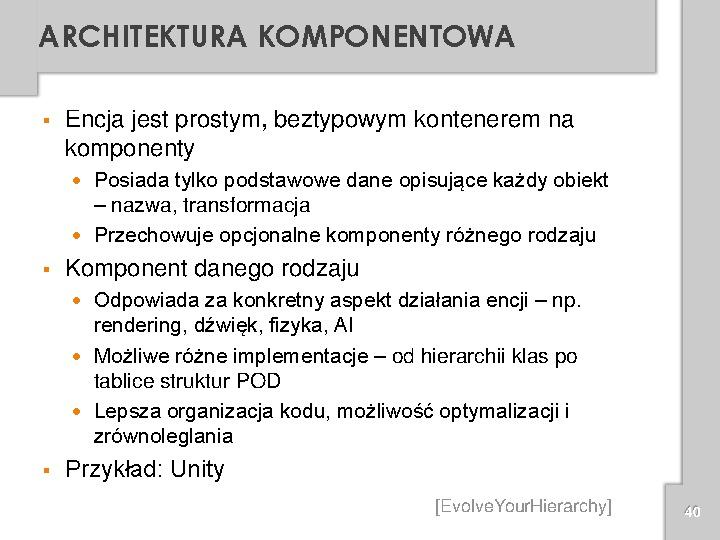paragraph: (29, 95, 644, 519)
title: (29, 10, 534, 63)
